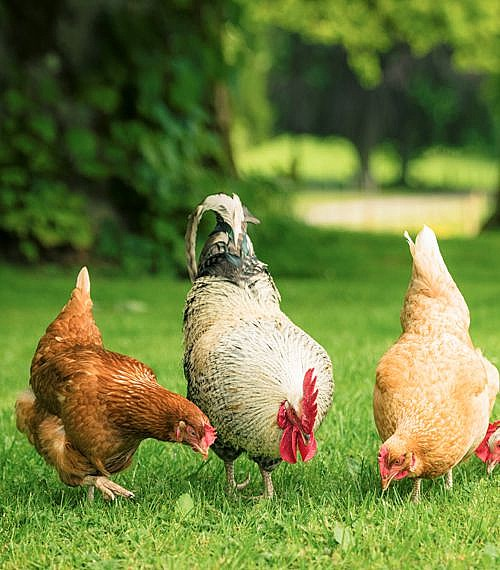Healthy: (175, 180, 343, 515), (7, 258, 218, 513), (363, 400, 453, 508)
